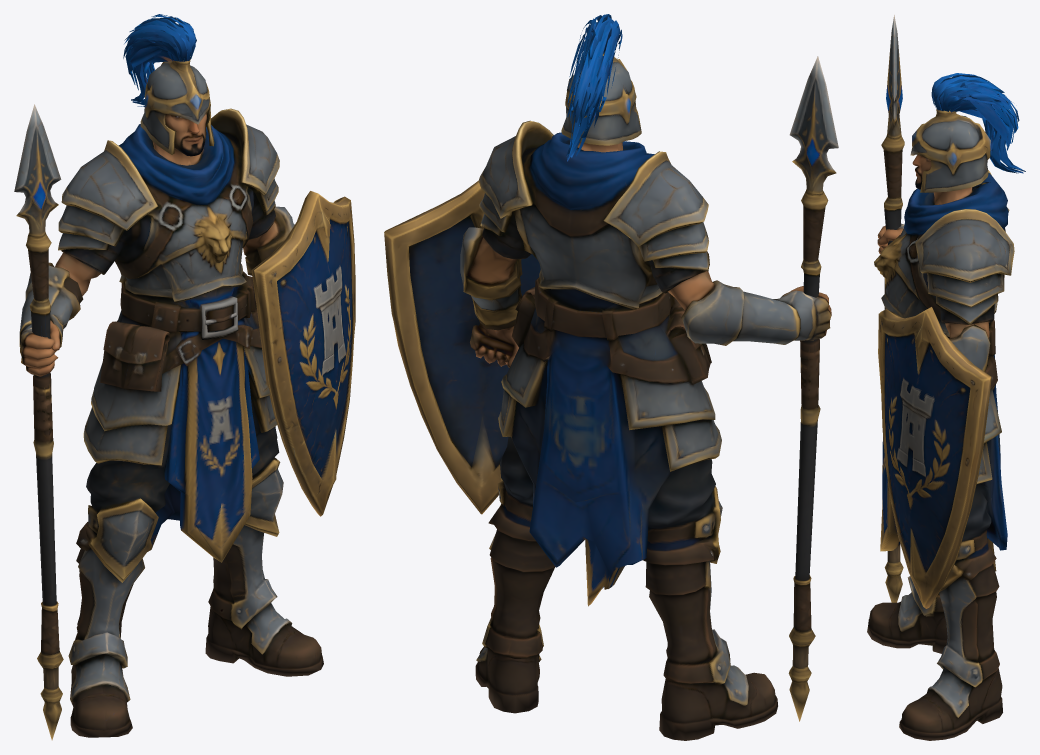
Rendered from meshy-basis.glb.
The picture shows the model from 3 angles, left to right: view 1: azimuth 30°, elevation 25°; view 2: azimuth 150°, elevation 25°; view 3: azimuth 270°, elevation 25°; orthographic projection. The views are drawn at different scales.
Parts seen in each view (by area): view 1: geometry_0; view 2: geometry_0; view 3: geometry_0.
Boxes of the visible parts, bbox=[...] form: geometry_0: bbox=[14, 14, 355, 740]; geometry_0: bbox=[384, 14, 838, 740]; geometry_0: bbox=[867, 15, 1025, 740].
Bounding box in the file's own units: 0.5801 × 0.9521 × 0.2251.
1 material, 1 textured.
